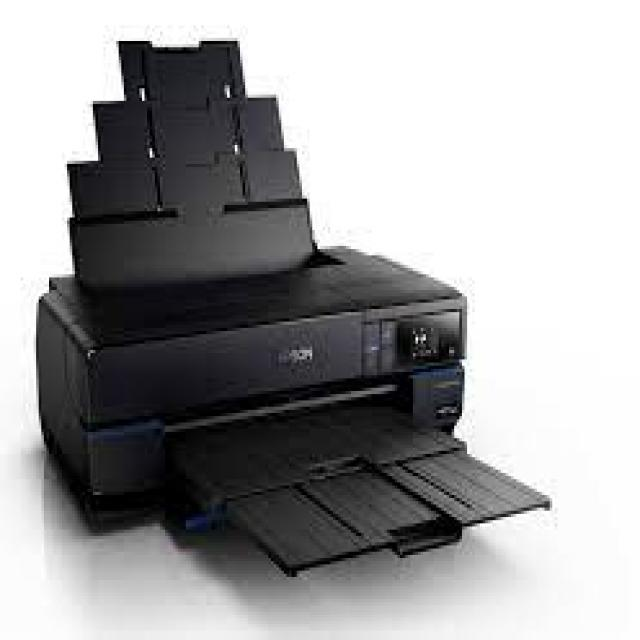printer: (9, 15, 608, 608)
